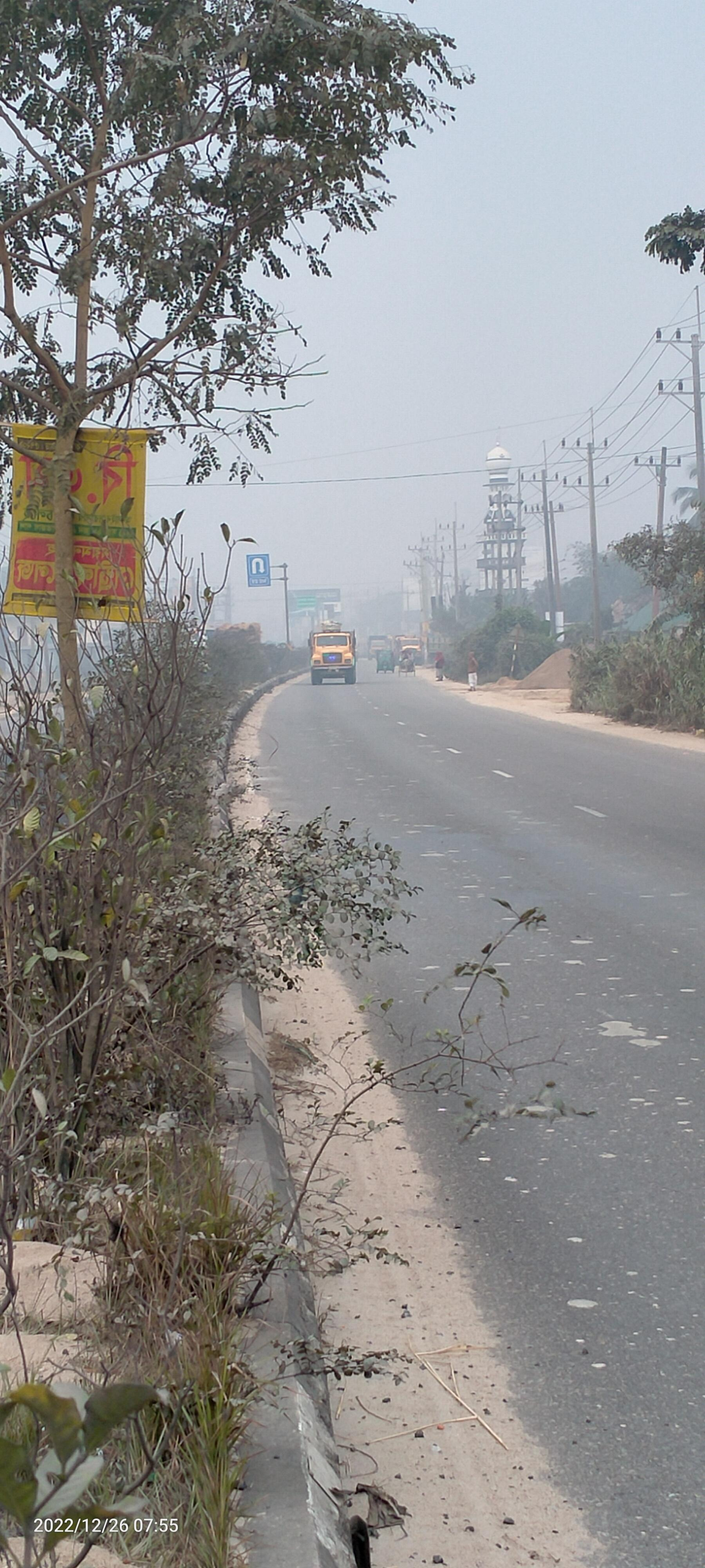Truck: (303, 616, 361, 693)
